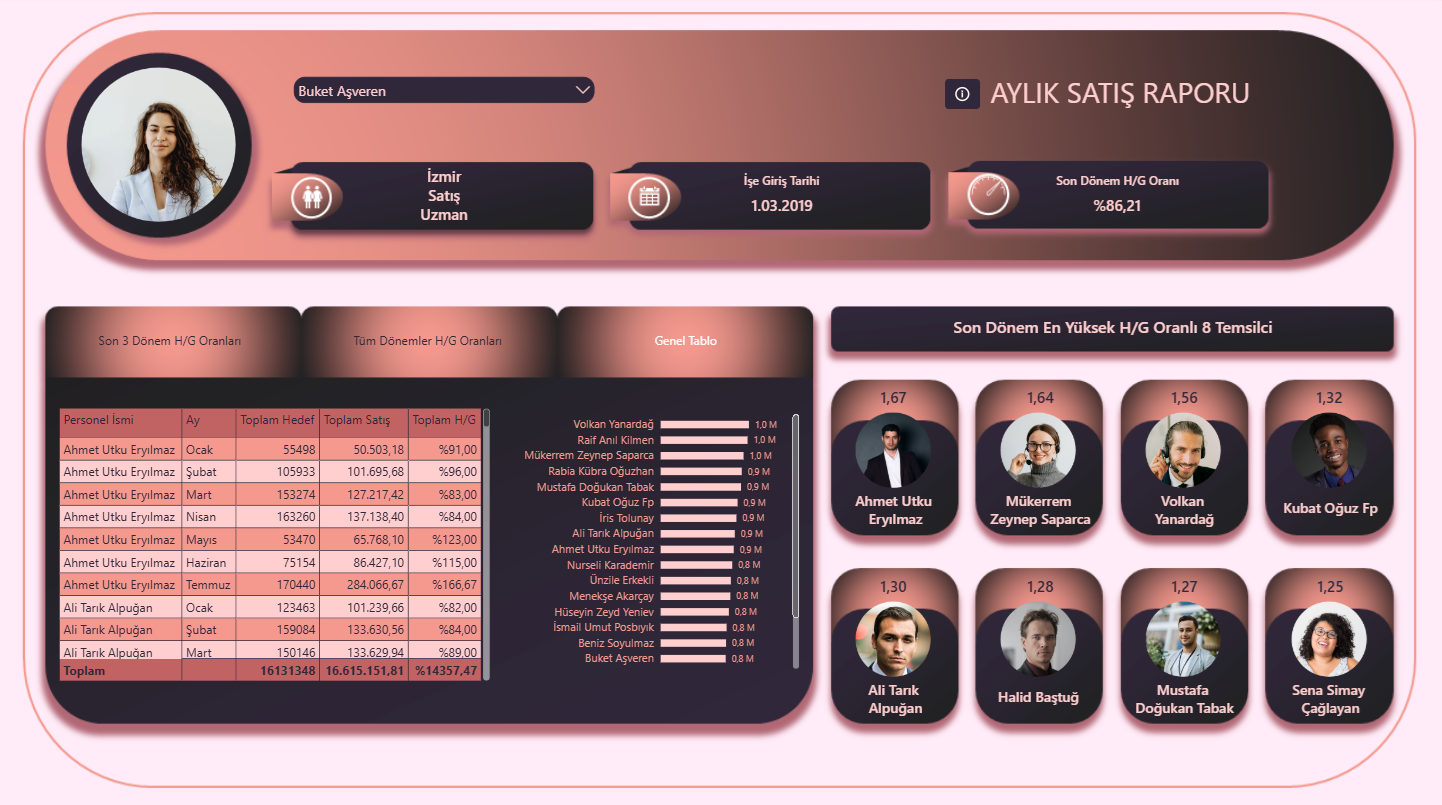

The page's visual inventory and layout, read from the dashboard file:
{"tool":"powerbi","page":{"name":"1. sayfa","canvas":[1920,1080],"ordinal":0},"visuals":[{"type":"slicer","fields":{"Values":["son_dönem.Personel İsmi"]},"box":[388.1,102.1,410,46.7],"z":0},{"type":"tableEx","fields":{"Values":["son_dönem.Foto Url"]},"box":[89,40.9,272.8,296.2],"z":1000},{"type":"card","fields":{"Values":["Min(son_dönem.Bölgesi)"]},"box":[388.1,214.5,410,55.4],"z":2000},{"type":"card","fields":{"Values":["Min(son_dönem.Görevi)"]},"box":[388.1,241.5,410,51.1],"z":3000},{"type":"card","fields":{"Values":["Min(son_dönem.Ünvanı)"]},"box":[388.1,267,410,51.1],"z":4000},{"type":"textbox","box":[844.7,233.4,395.4,37.9],"z":5000},{"type":"card","fields":{"Values":["Min(son_dönem.İşe Giriş Tarihi)"]},"box":[837.4,255.3,410,51.1],"z":6000},{"type":"textbox","box":[1291.2,233.4,395.4,37.9],"z":6001},{"type":"card","fields":{"Values":["Sum(son_dönem.H/G)"]},"box":[1283.9,255.3,410,51.1],"z":6002},{"type":"textbox","box":[1107.4,426,749.9,40.9],"z":6003},{"type":"tableEx","fields":{"Values":["Ölçüler.birinci_foto"]},"box":[1119,500.4,148.8,175.1],"z":6004},{"type":"card","fields":{"Values":["Ölçüler.birinci_isim"]},"box":[1110.3,631.7,166.3,102.1],"z":6005},{"type":"card","fields":{"Values":["Ölçüler.birinci_hg"]},"box":[1107.4,485.8,166.3,102.1],"z":6006},{"type":"tableEx","fields":{"Values":["Ölçüler.ikinci_foto"]},"box":[1311.6,500.4,148.8,175.1],"z":6007},{"type":"card","fields":{"Values":["Ölçüler.ikinci_isim"]},"box":[1302.9,631.7,166.3,102.1],"z":6008},{"type":"card","fields":{"Values":["Ölçüler.ikinci_hg"]},"box":[1302.9,485.8,166.3,102.1],"z":6009},{"type":"tableEx","fields":{"Values":["Ölçüler.ucuncu_foto"]},"box":[1504.2,500.4,148.8,175.1],"z":6010},{"type":"card","fields":{"Values":["Ölçüler.ucuncu_isim"]},"box":[1495.4,631.7,166.3,102.1],"z":6011},{"type":"card","fields":{"Values":["Ölçüler.ucuncu_hg"]},"box":[1495.4,485.8,166.3,102.1],"z":6012},{"type":"tableEx","fields":{"Values":["Ölçüler.dorduncu_foto"]},"box":[1698,500.2,148.8,175.1],"z":6013},{"type":"card","fields":{"Values":["Ölçüler.dorduncu_isim"]},"box":[1689.3,631.5,166.3,102.1],"z":6014},{"type":"card","fields":{"Values":["Ölçüler.sekizinci_hg"]},"box":[1689.5,736.8,166.3,102.1],"z":6015},{"type":"tableEx","fields":{"Values":["Ölçüler.besinci_foto"]},"box":[1119,751.4,148.8,175.1],"z":6016},{"type":"card","fields":{"Values":["Ölçüler.besinci_isim"]},"box":[1110.3,882.7,166.3,102.1],"z":6017},{"type":"card","fields":{"Values":["Ölçüler.dorduncu_hg"]},"box":[1688,485.8,166.3,102.1],"z":6018},{"type":"tableEx","fields":{"Values":["Ölçüler.altinci_foto"]},"box":[1311.6,751.4,148.8,175.1],"z":6019},{"type":"card","fields":{"Values":["Ölçüler.altinci_isim"]},"box":[1301.4,882.7,166.3,102.1],"z":6020},{"type":"card","fields":{"Values":["Ölçüler.besinci_hg"]},"box":[1107.4,736.8,166.3,102.1],"z":6021},{"type":"tableEx","fields":{"Values":["Ölçüler.yedinci_foto"]},"box":[1504.2,751.4,148.8,175.1],"z":6022},{"type":"card","fields":{"Values":["Ölçüler.yedinci_isim"]},"box":[1495.4,882.7,166.3,102.1],"z":6023},{"type":"card","fields":{"Values":["Ölçüler.altinci_hg"]},"box":[1302.9,736.8,166.3,102.1],"z":6024},{"type":"tableEx","fields":{"Values":["Ölçüler.sekizinci_foto"]},"box":[1698.2,751.4,148.8,175.1],"z":6025},{"type":"card","fields":{"Values":["Ölçüler.sekizinci_isim"]},"box":[1689.5,882.7,166.3,102.1],"z":6026},{"type":"card","fields":{"Values":["Ölçüler.yedinci_hg"]},"box":[1495.4,736.8,166.3,102.1],"z":6027},{"type":"dg5AAA90EFEFE747CB9357C4FC19B85A58","fields":{"max":["Sum(tüm_dönem_hg.Hedef)"],"pointerValue":["Sum(tüm_dönem_hg.Satış)"],"percentage":["Sum(tüm_dönem_hg.H/G)"]},"box":[70.5,583.9,318.1,342.9],"z":6028},{"type":"dg5AAA90EFEFE747CB9357C4FC19B85A58","fields":{"max":["Sum(tüm_dönem_hg.Hedef)"],"pointerValue":["Sum(tüm_dönem_hg.Satış)"],"percentage":["Sum(tüm_dönem_hg.H/G)"]},"box":[413.6,583.9,318.1,342.9],"z":6029},{"type":"dg5AAA90EFEFE747CB9357C4FC19B85A58","fields":{"max":["Sum(tüm_dönem_hg.Hedef)"],"pointerValue":["Sum(tüm_dönem_hg.Satış)"],"percentage":["Sum(tüm_dönem_hg.H/G)"]},"box":[755.5,583.9,318.1,342.9],"z":6030},{"type":"bookmarkNavigator","box":[61.1,416.9,1023.8,85.5],"z":6034},{"type":"textbox","box":[1158.5,102.4,669,55.9],"z":6035},{"type":"actionButton","box":[1259.6,110.4,46.6,39.9],"z":6036}]}

Visuals, with their boxes in screenshot pixels (x1, y1, x2, y2), scaled from the page's 1920x1080 canvas onto the 1442x805 screenshot:
slicer - son_dönem.Personel İsmi: box=[291, 76, 599, 111]
tableEx - son_dönem.Foto Url: box=[67, 30, 272, 251]
card - Min(son_dönem.Bölgesi): box=[291, 160, 599, 201]
card - Min(son_dönem.Görevi): box=[291, 180, 599, 218]
card - Min(son_dönem.Ünvanı): box=[291, 199, 599, 237]
textbox: box=[634, 174, 931, 202]
card - Min(son_dönem.İşe Giriş Tarihi): box=[629, 190, 937, 228]
textbox: box=[970, 174, 1267, 202]
card - Sum(son_dönem.H/G): box=[964, 190, 1272, 228]
textbox: box=[832, 318, 1395, 348]
tableEx - Ölçüler.birinci_foto: box=[840, 373, 952, 503]
card - Ölçüler.birinci_isim: box=[834, 471, 959, 547]
card - Ölçüler.birinci_hg: box=[832, 362, 957, 438]
tableEx - Ölçüler.ikinci_foto: box=[985, 373, 1097, 503]
card - Ölçüler.ikinci_isim: box=[979, 471, 1103, 547]
card - Ölçüler.ikinci_hg: box=[979, 362, 1103, 438]
tableEx - Ölçüler.ucuncu_foto: box=[1130, 373, 1241, 503]
card - Ölçüler.ucuncu_isim: box=[1123, 471, 1248, 547]
card - Ölçüler.ucuncu_hg: box=[1123, 362, 1248, 438]
tableEx - Ölçüler.dorduncu_foto: box=[1275, 373, 1387, 503]
card - Ölçüler.dorduncu_isim: box=[1269, 471, 1394, 547]
card - Ölçüler.sekizinci_hg: box=[1269, 549, 1394, 625]
tableEx - Ölçüler.besinci_foto: box=[840, 560, 952, 691]
card - Ölçüler.besinci_isim: box=[834, 658, 959, 734]
card - Ölçüler.dorduncu_hg: box=[1268, 362, 1393, 438]
tableEx - Ölçüler.altinci_foto: box=[985, 560, 1097, 691]
card - Ölçüler.altinci_isim: box=[977, 658, 1102, 734]
card - Ölçüler.besinci_hg: box=[832, 549, 957, 625]
tableEx - Ölçüler.yedinci_foto: box=[1130, 560, 1241, 691]
card - Ölçüler.yedinci_isim: box=[1123, 658, 1248, 734]
card - Ölçüler.altinci_hg: box=[979, 549, 1103, 625]
tableEx - Ölçüler.sekizinci_foto: box=[1275, 560, 1387, 691]
card - Ölçüler.sekizinci_isim: box=[1269, 658, 1394, 734]
card - Ölçüler.yedinci_hg: box=[1123, 549, 1248, 625]
dg5AAA90EFEFE747CB9357C4FC19B85A58 - Sum(tüm_dönem_hg.Hedef) x Sum(tüm_dönem_hg.Satış): box=[53, 435, 292, 691]
dg5AAA90EFEFE747CB9357C4FC19B85A58 - Sum(tüm_dönem_hg.Hedef) x Sum(tüm_dönem_hg.Satış): box=[311, 435, 550, 691]
dg5AAA90EFEFE747CB9357C4FC19B85A58 - Sum(tüm_dönem_hg.Hedef) x Sum(tüm_dönem_hg.Satış): box=[567, 435, 806, 691]
bookmarkNavigator: box=[46, 311, 815, 374]
textbox: box=[870, 76, 1373, 118]
actionButton: box=[946, 82, 981, 112]
